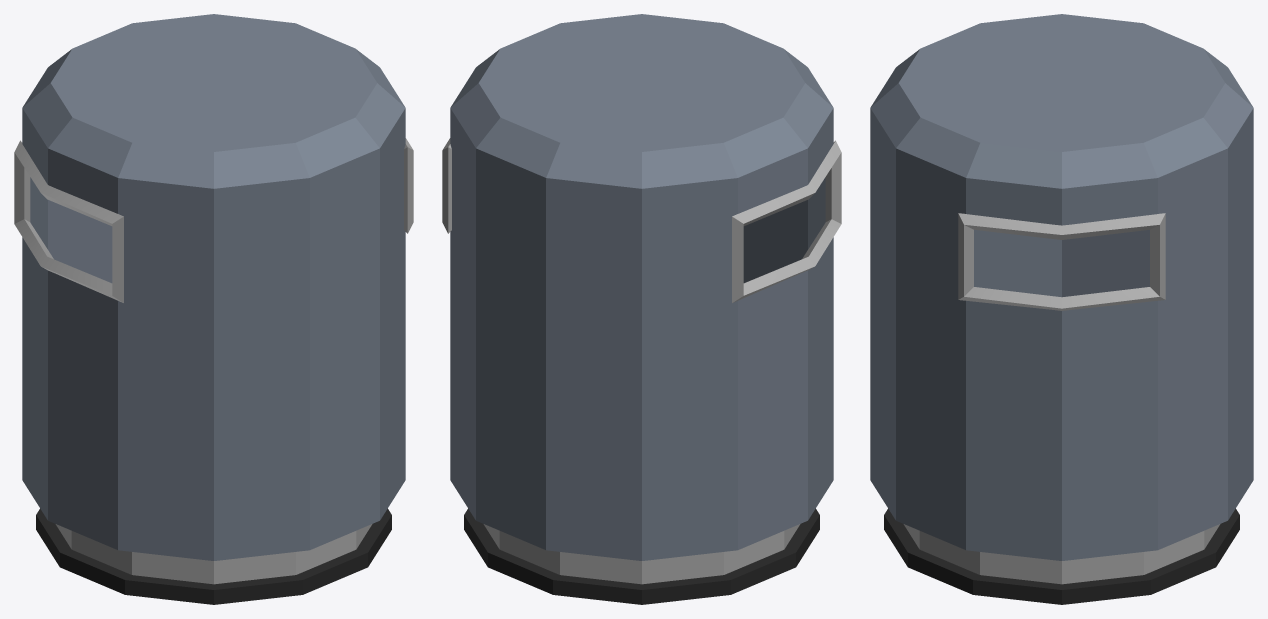
Rendered from SM_trash_bin_5.gltf.
3 renders of one model, left to right at view 1: azimuth 30°, elevation 25°; view 2: azimuth 150°, elevation 25°; view 3: azimuth 270°, elevation 25°, orthographic.
Parts seen in each view (by area): view 1: SM_trash_bin_5; view 2: SM_trash_bin_5; view 3: SM_trash_bin_5.
Boxes of the visible parts, x1,y1,x2,y2 form: SM_trash_bin_5: (14, 14, 413, 604); SM_trash_bin_5: (442, 14, 841, 604); SM_trash_bin_5: (870, 14, 1253, 604).
Size of the model in its own units: 0.7309 by 0.9 by 0.7.
1 material, 1 textured.
